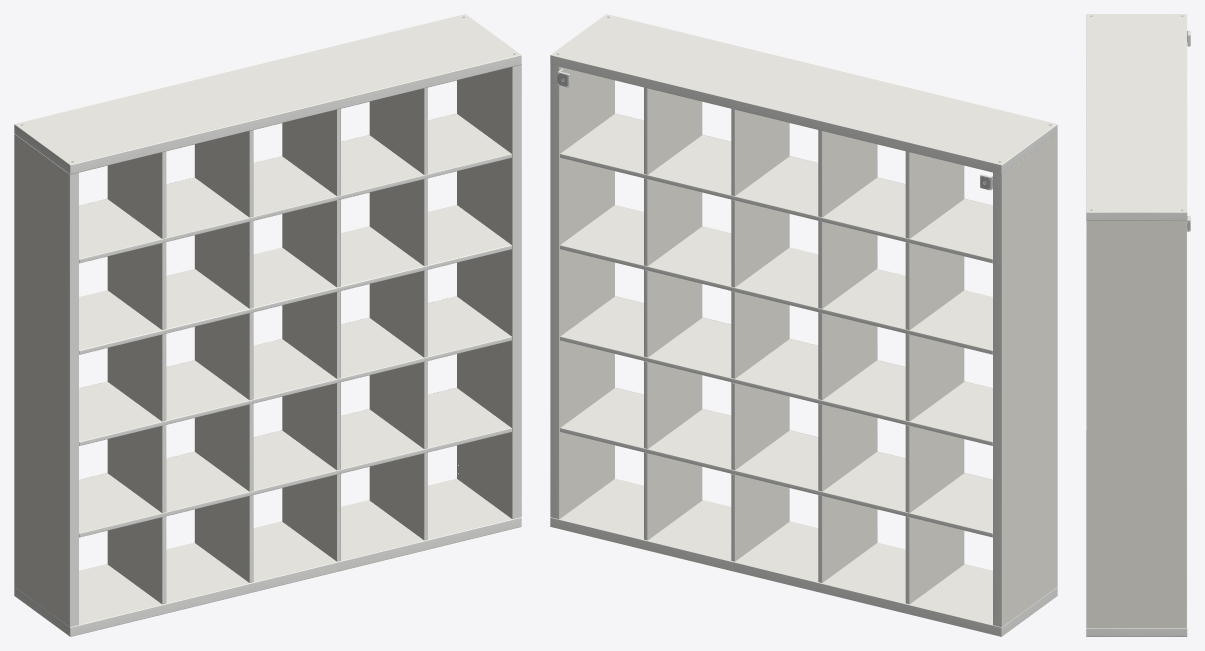
File: KALLAX shelf unit - white.glb
3 renders of one model, left to right at view 1: azimuth 30°, elevation 25°; view 2: azimuth 150°, elevation 25°; view 3: azimuth 270°, elevation 25°, orthographic. The views are drawn at different scales.
Visible parts, largest first — view 1: Mesh_0; view 2: Mesh_0; view 3: Mesh_0.
Boxes of the visible parts, box(x1,y1,x2,y2) form: Mesh_0: box(14, 14, 521, 636); Mesh_0: box(550, 14, 1057, 636); Mesh_0: box(1086, 14, 1190, 636).
Size of the model in its own units: 1.82 by 1.82 by 0.4048.
1 material, 1 textured.
